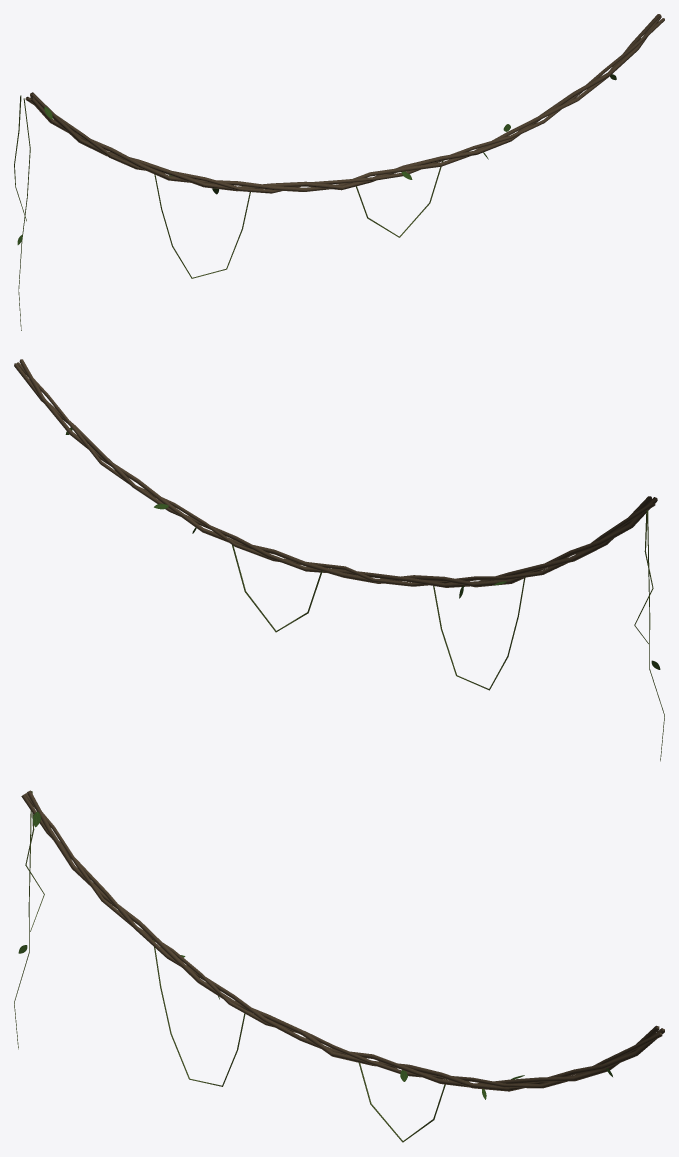
Rendered from liana_span_braid_02_lod2.gltf.
3 renders of one model, top to bottom at view 1: azimuth 30°, elevation 25°; view 2: azimuth 150°, elevation 25°; view 3: azimuth 330°, elevation 25°, orthographic. The views are drawn at different scales.
Visible parts, largest first — view 1: liana_span_braid_02; view 2: liana_span_braid_02; view 3: liana_span_braid_02.
Boxes of the visible parts, x1=… form: liana_span_braid_02: x1=14, y1=14, x2=664, y2=330; liana_span_braid_02: x1=14, y1=359, x2=664, y2=761; liana_span_braid_02: x1=14, y1=790, x2=664, y2=1142.
Bounding box in the file's own units: 7.17 × 2.63 × 0.9578.
Materials: 3 (3 with a texture image).
